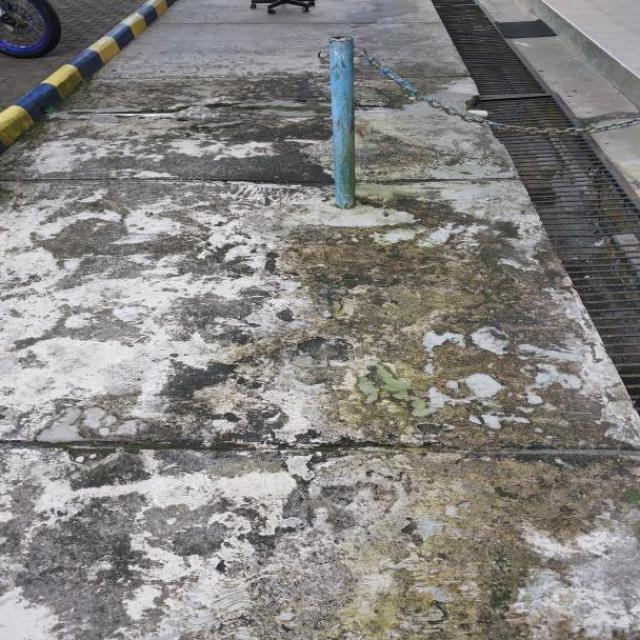barrier ahead at: (320, 23, 374, 218)
